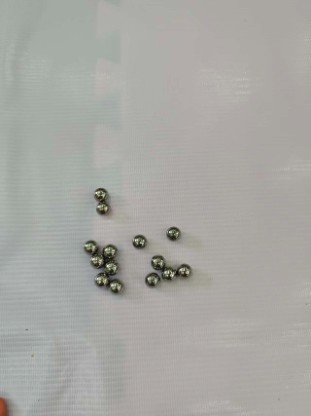ironball: (165, 224, 180, 240), (131, 234, 145, 249), (88, 253, 104, 266), (101, 243, 116, 256), (94, 201, 108, 214), (109, 279, 122, 292), (92, 187, 106, 199), (104, 260, 116, 274), (94, 272, 106, 286), (177, 264, 190, 276), (151, 254, 162, 268), (83, 239, 95, 251), (160, 268, 173, 278), (146, 273, 157, 284)
